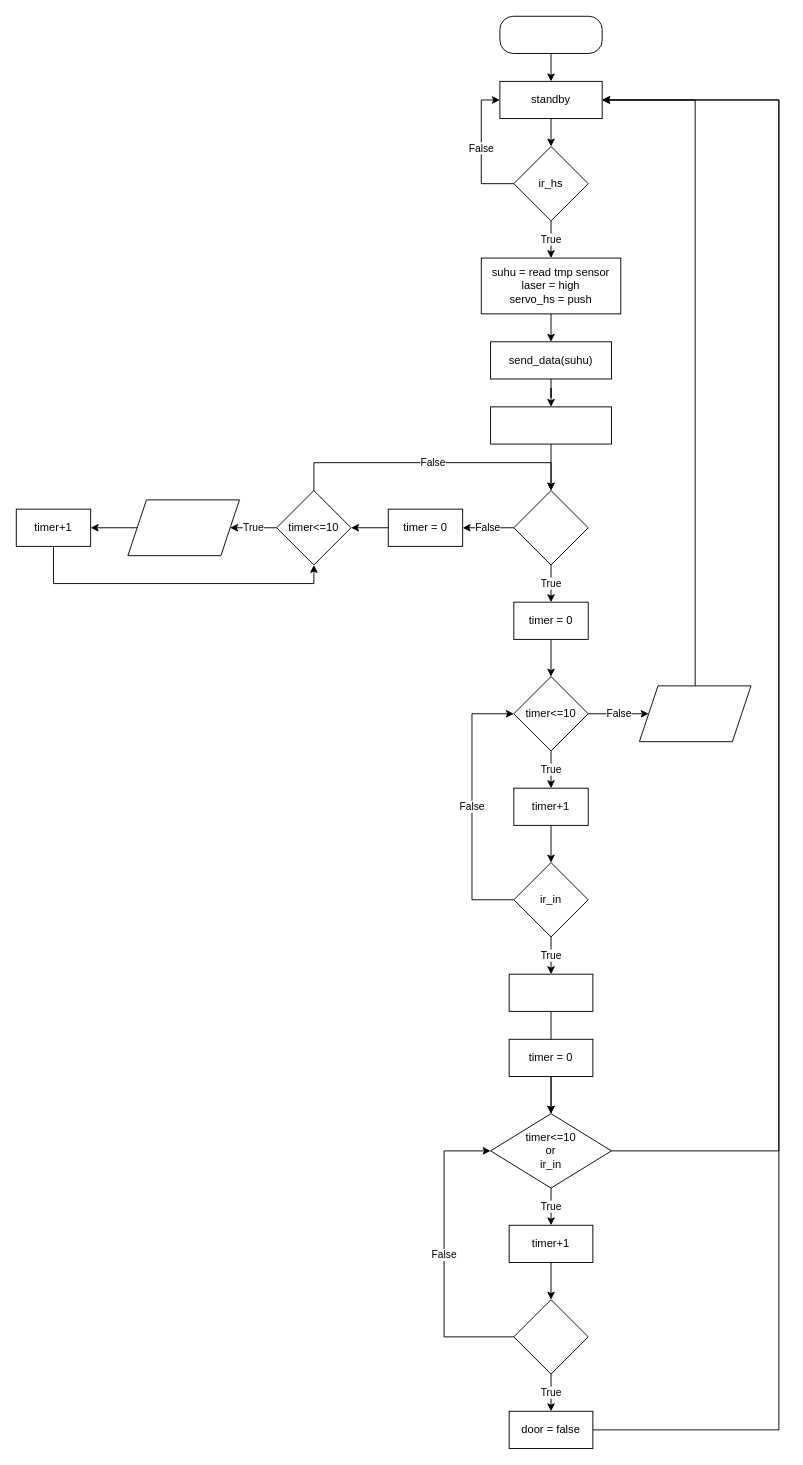
The diagram is 803 pixels wide and 1465 high, and some of its shapes have lost their labels. Here are the shapes that lost their labels. From the top down, the centre of each, then its label:
At pixel 550 34: "Mulai".
At pixel 550 425: "read_data(masker)".
At pixel 183 527: "print dilarang masuk".
At pixel 550 527: "use masker".
At pixel 694 713: "print tidak masuk".
At pixel 550 992: "door = true".
At pixel 550 1336: "ir_out".
